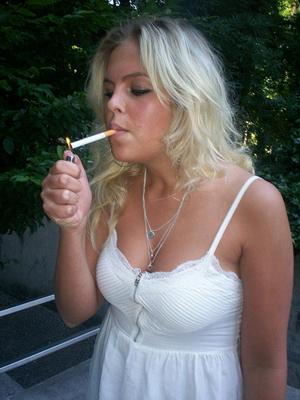person: (41, 15, 296, 400)
